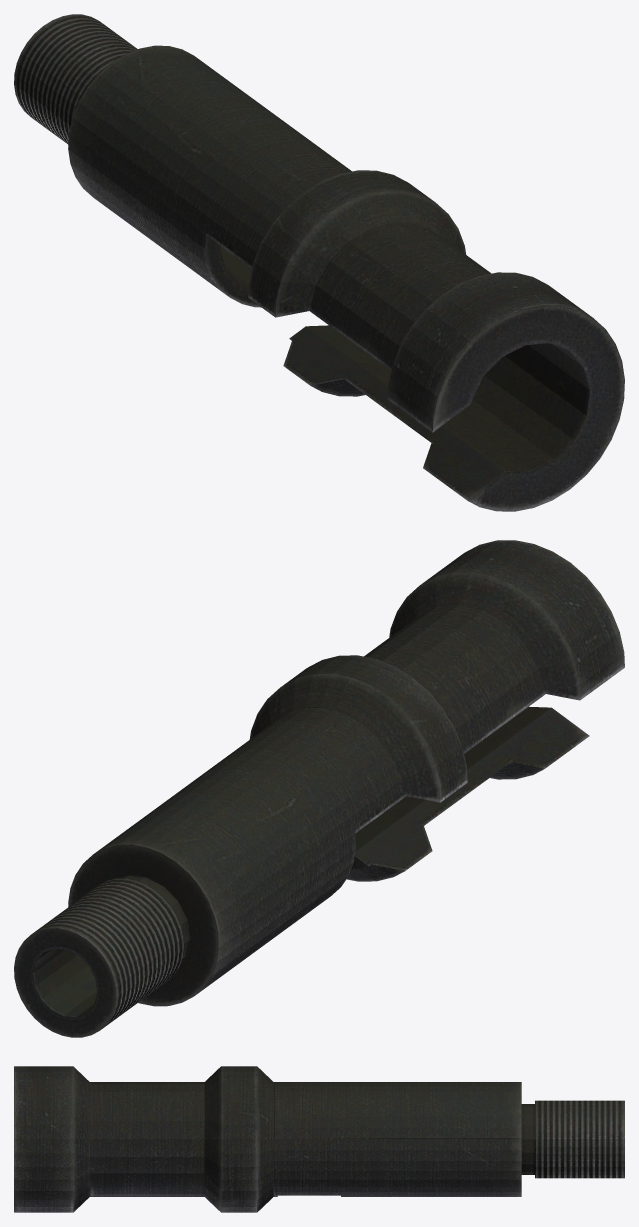
The picture shows the model from 3 angles, top to bottom: view 1: azimuth 30°, elevation 25°; view 2: azimuth 150°, elevation 25°; view 3: azimuth 270°, elevation 25°; orthographic projection. The views are drawn at different scales.
Parts seen in each view (by area): view 1: TW_5cf79389d7f00c10941a0c4d_PZ_Import; view 2: TW_5cf79389d7f00c10941a0c4d_PZ_Import; view 3: TW_5cf79389d7f00c10941a0c4d_PZ_Import.
Part boxes in pixels (left/top/right/bottom): TW_5cf79389d7f00c10941a0c4d_PZ_Import: left=14, top=14, right=624, bottom=511; TW_5cf79389d7f00c10941a0c4d_PZ_Import: left=14, top=540, right=624, bottom=1037; TW_5cf79389d7f00c10941a0c4d_PZ_Import: left=14, top=1066, right=624, bottom=1212.
Bounding box in the file's own units: 0.0137 × 0.057 × 0.0137.
Materials: 1 (1 with a texture image).
